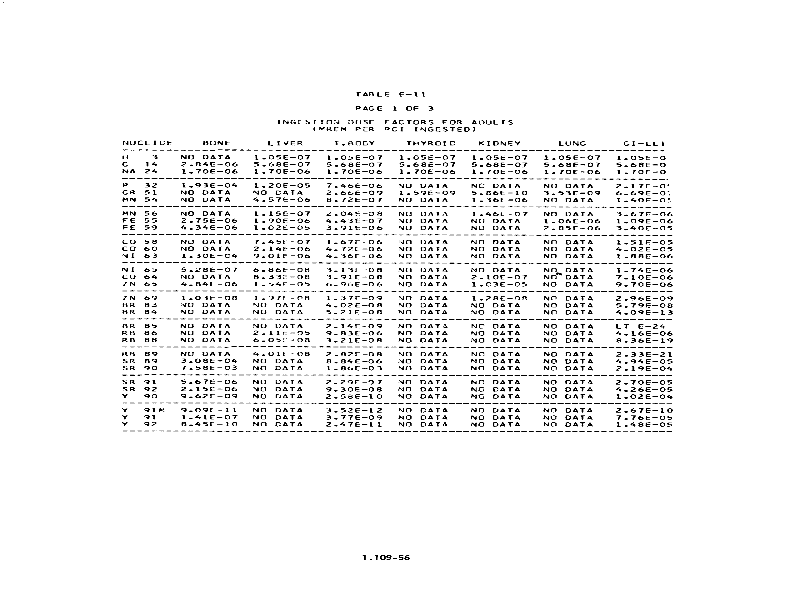table: (118, 138, 675, 470)
